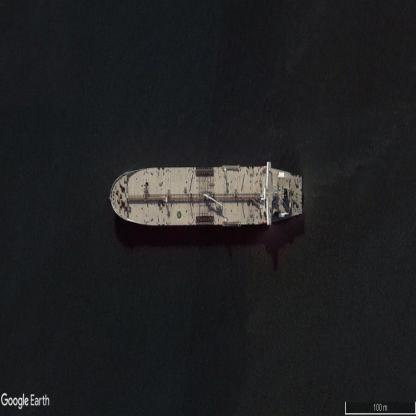ship: (111, 166, 302, 227)
